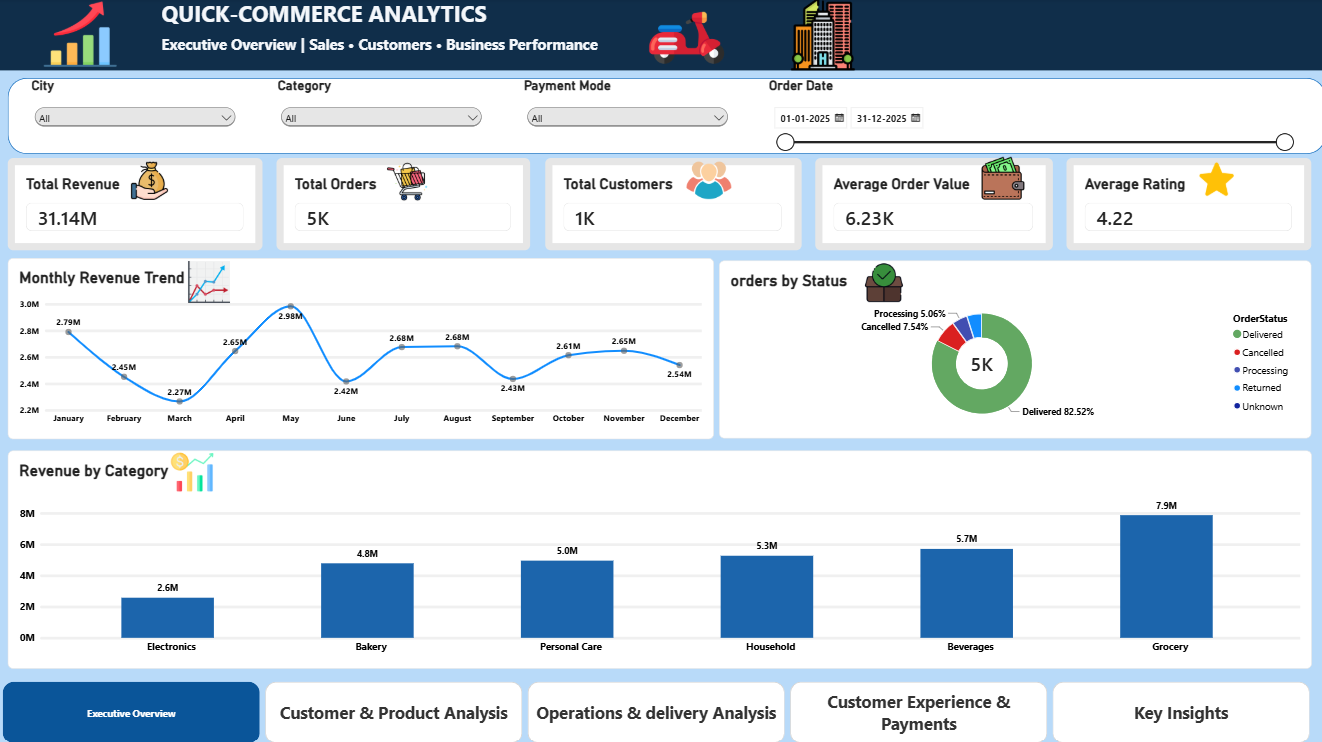

What the dashboard file says about the page in this screenshot:
{"tool":"powerbi","page":{"name":"Executive Overview","canvas":[1920,1080],"ordinal":0},"visuals":[{"type":"cardVisual","title":"Total Revenue","fields":{"Data":["__Measures.Total Revenue"]},"box":[12.7,231.6,369.2,133.9],"z":0},{"type":"cardVisual","title":"Total Orders","fields":{"Data":["__Measures.Total Orders"]},"box":[402.2,231.6,367.4,133.9],"z":1000},{"type":"cardVisual","title":"Total Customers","fields":{"Data":["__Measures.Total Customers"]},"box":[789.9,231.6,371,133.9],"z":2000},{"type":"cardVisual","title":"Average Order Value","fields":{"Data":["__Measures.Average Order value"]},"box":[1182,232,343.8,133.9],"z":3000},{"type":"cardVisual","title":"Average Rating","fields":{"Data":["__Measures.Average Rating"]},"box":[1545.5,231.6,354.7,133.9],"z":4000},{"type":"lineChart","title":"Monthly Revenue Trend","fields":{"Category":["Orders.OrderDate.Variation.Date Hierarchy.Month"],"Y":["__Measures.Total Revenue"]},"box":[12,376,1022,262],"z":5000},{"type":"clusteredColumnChart","title":"Revenue by Category","fields":{"Category":["Products.Category"],"Y":["__Measures.Total Revenue"]},"box":[12,656,1888,316],"z":6000},{"type":"donutChart","title":"orders by Status","fields":{"Category":["Orders.OrderStatus"],"Y":["__Measures.Total Orders"]},"box":[1042.5,380,857.5,257.5],"z":7000},{"type":"textbox","box":[0,0,1920,105],"z":8000},{"type":"textbox","box":[235,0,655,52.5],"z":9000},{"type":"textbox","box":[235,52.5,1262.5,52.5],"z":10000},{"type":"image","box":[0,0,235,105],"z":11000},{"type":"image","box":[867.5,0,257.5,115],"z":12000},{"type":"image","box":[1087.5,0,210,105],"z":13000},{"type":"image","box":[179.2,237.1,77.5,55],"z":14000},{"type":"image","box":[539.3,237.1,103.2,57.9],"z":15000},{"type":"image","box":[968.2,231.6,119.4,65.1],"z":16000},{"type":"image","box":[1400,230,105,62.5],"z":17000},{"type":"image","box":[257.5,380,95,62.5],"z":18000},{"type":"image","box":[1722.5,237.5,80,50],"z":19000},{"type":"shape","box":[12,116,1908,110],"z":20000},{"type":"slicer","title":"City","fields":{"Values":["Customers.City"]},"box":[47.5,115,300,95],"z":21000},{"type":"slicer","title":"Category","fields":{"Values":["Products.Category"]},"box":[403.3,115,300,95],"z":22000},{"type":"slicer","title":"Payment Mode","fields":{"Values":["Transactions.PaymentMode"]},"box":[759.2,115,300,90],"z":23000},{"type":"slicer","title":"Order Date","fields":{"Values":["Orders.OrderDate"]},"box":[1115,115,762.5,172.5],"z":24000},{"type":"pageNavigator","box":[5,990,1895,90],"z":25000},{"type":"image","box":[1226,380,112,62],"z":26000},{"type":"image","box":[204,656,150,62],"z":27000}]}

Visuals, with their boxes in screenshot pixels (x1, y1, x2, y2), scaled from the page's 1920x1080 canvas onto the 1322x742 screenshot:
"Total Revenue" cardVisual: (x1=9, y1=159, x2=263, y2=251)
"Total Orders" cardVisual: (x1=277, y1=159, x2=530, y2=251)
"Total Customers" cardVisual: (x1=544, y1=159, x2=799, y2=251)
"Average Order Value" cardVisual: (x1=814, y1=159, x2=1051, y2=251)
"Average Rating" cardVisual: (x1=1064, y1=159, x2=1308, y2=251)
"Monthly Revenue Trend" lineChart: (x1=8, y1=258, x2=712, y2=438)
"Revenue by Category" clusteredColumnChart: (x1=8, y1=451, x2=1308, y2=668)
"orders by Status" donutChart: (x1=718, y1=261, x2=1308, y2=438)
textbox: (x1=0, y1=0, x2=1321, y2=72)
textbox: (x1=162, y1=0, x2=613, y2=36)
textbox: (x1=162, y1=36, x2=1031, y2=72)
image: (x1=0, y1=0, x2=162, y2=72)
image: (x1=597, y1=0, x2=775, y2=79)
image: (x1=749, y1=0, x2=893, y2=72)
image: (x1=123, y1=163, x2=177, y2=201)
image: (x1=371, y1=163, x2=442, y2=203)
image: (x1=667, y1=159, x2=749, y2=204)
image: (x1=964, y1=158, x2=1036, y2=201)
image: (x1=177, y1=261, x2=243, y2=304)
image: (x1=1186, y1=163, x2=1241, y2=198)
shape: (x1=8, y1=80, x2=1321, y2=155)
"City" slicer: (x1=33, y1=79, x2=239, y2=144)
"Category" slicer: (x1=278, y1=79, x2=484, y2=144)
"Payment Mode" slicer: (x1=523, y1=79, x2=729, y2=141)
"Order Date" slicer: (x1=768, y1=79, x2=1293, y2=198)
pageNavigator: (x1=3, y1=680, x2=1308, y2=741)
image: (x1=844, y1=261, x2=921, y2=304)
image: (x1=140, y1=451, x2=244, y2=493)
